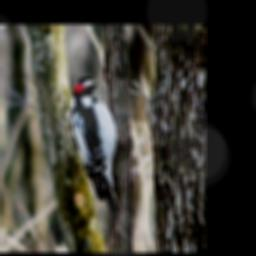Woodpecker: (67, 77, 125, 222)
